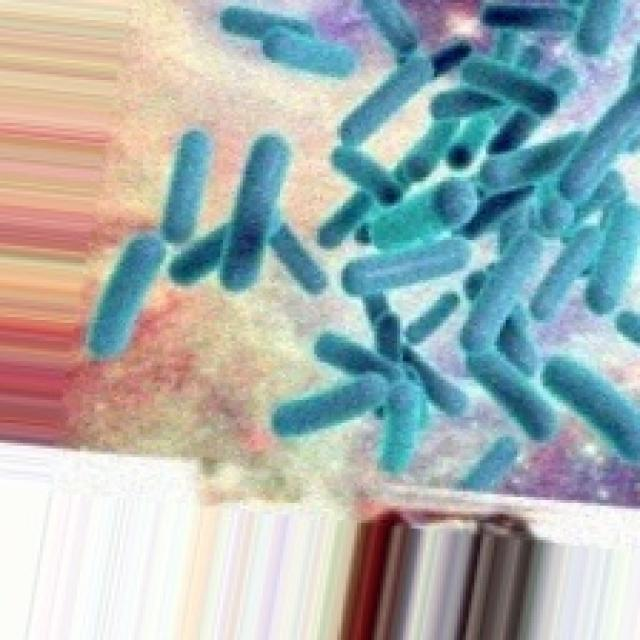Rod_bacteria: (69, 0, 637, 500)
